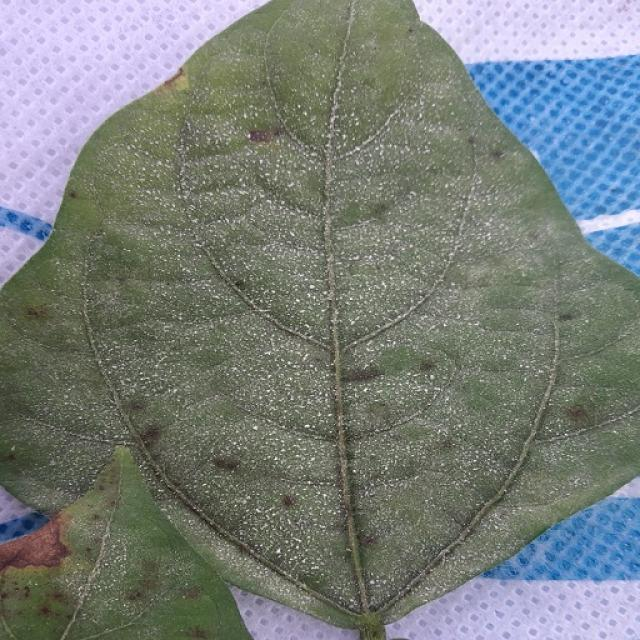Blackgram: (0, 0, 639, 639)
Powdery_Mildew: (166, 140, 557, 494), (83, 65, 257, 551), (187, 161, 472, 347), (427, 216, 620, 367), (197, 218, 338, 407), (89, 282, 214, 417), (326, 81, 452, 213), (90, 106, 201, 249), (4, 320, 130, 445), (39, 460, 124, 638), (78, 220, 192, 312), (429, 170, 541, 263), (224, 398, 328, 497), (211, 120, 317, 204), (78, 251, 130, 415), (244, 480, 343, 564), (169, 88, 203, 281), (325, 3, 361, 170), (99, 342, 168, 394), (115, 550, 178, 606), (3, 559, 67, 611), (72, 506, 121, 559), (53, 613, 148, 640), (340, 122, 396, 160), (138, 558, 162, 581), (328, 113, 339, 128), (309, 284, 316, 290), (324, 290, 330, 296)
